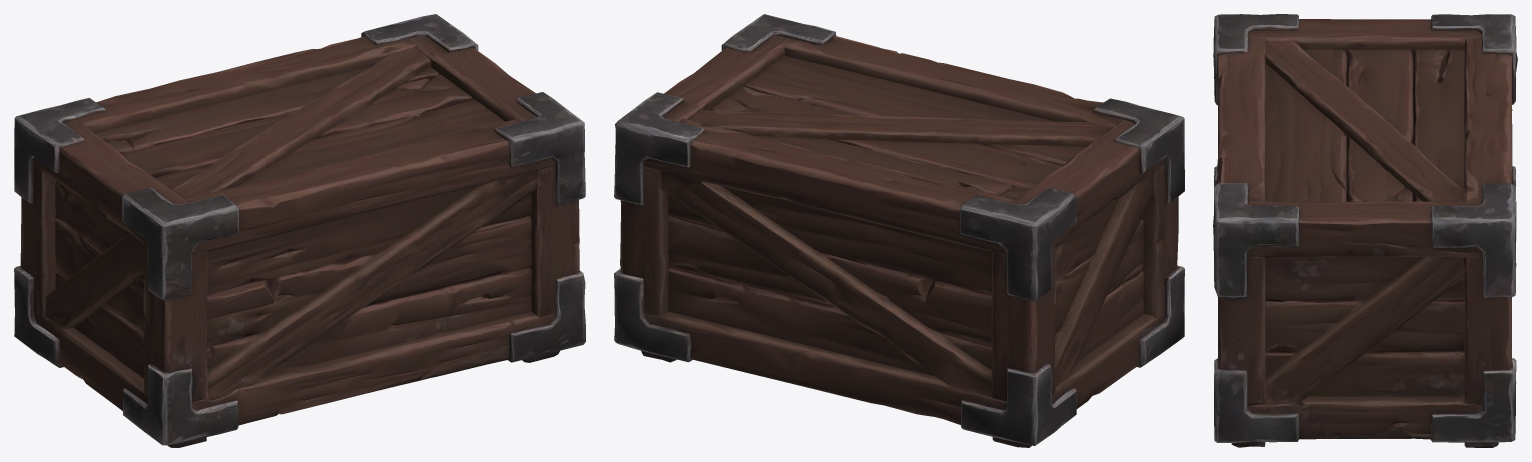
Rendered from mine_crate.glb.
The picture shows the model from 3 angles, left to right: view 1: azimuth 30°, elevation 25°; view 2: azimuth 150°, elevation 25°; view 3: azimuth 270°, elevation 25°; orthographic projection.
Visible parts, largest first — view 1: body, lid; view 2: body, lid; view 3: lid, body.
Boxes of the visible parts, x1,y1,x2,y2 form: body: [14, 143, 585, 447]; lid: [14, 14, 584, 250]; body: [614, 143, 1184, 447]; lid: [615, 14, 1184, 250]; lid: [1213, 14, 1517, 246]; body: [1213, 75, 1516, 447].
Size of the model in its own units: 1.12 by 0.6002 by 0.6973.
5 materials, 3 textured.
